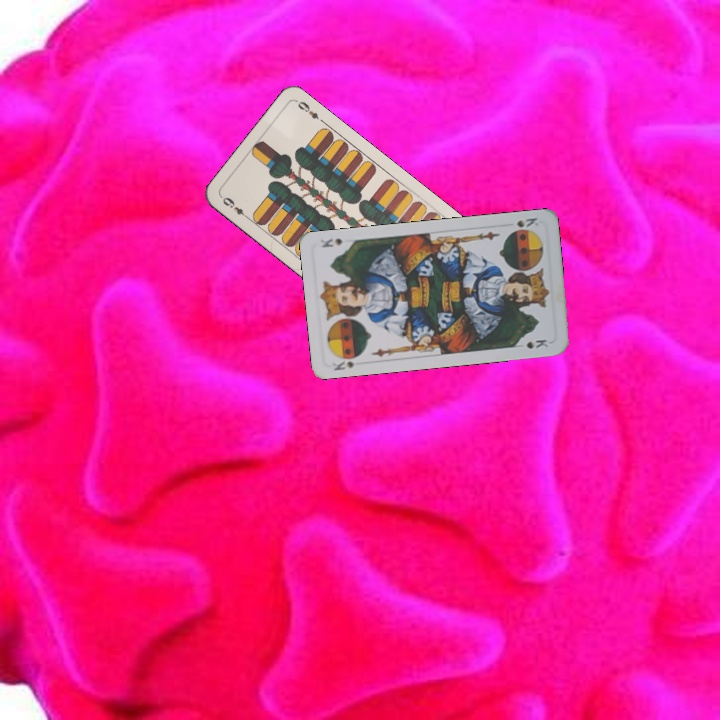E9: (217, 193, 252, 222)
SK: (512, 214, 541, 230), (329, 357, 358, 373)
